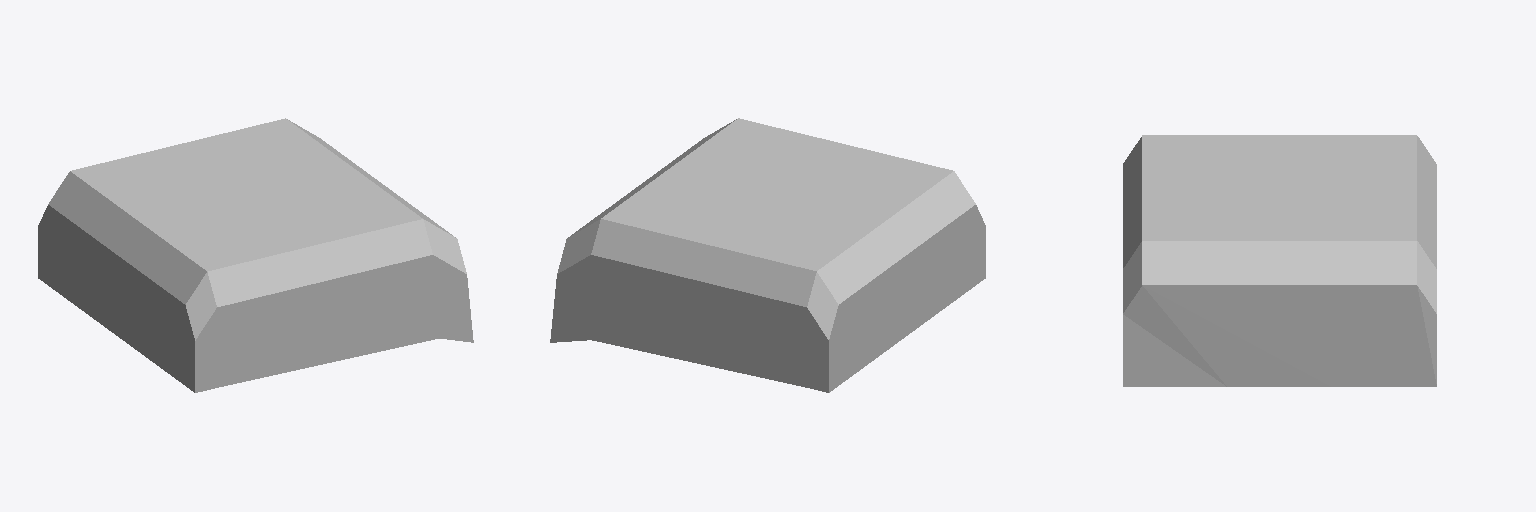
The model's file is tophalfchest 1.obj.
3 views of the same model, side by side, from view 1: azimuth 30°, elevation 25°; view 2: azimuth 150°, elevation 25°; view 3: azimuth 270°, elevation 25° (orthographic).
Visible parts, largest first — view 1: Cube.001; view 2: Cube.001; view 3: Cube.001.
Boxes of the visible parts, <box> form: Cube.001: <box>38,118,473,392</box>; Cube.001: <box>550,118,985,392</box>; Cube.001: <box>1123,135,1436,386</box>.
Bounding box in the file's own units: 2.34 × 1.02 × 2.29.